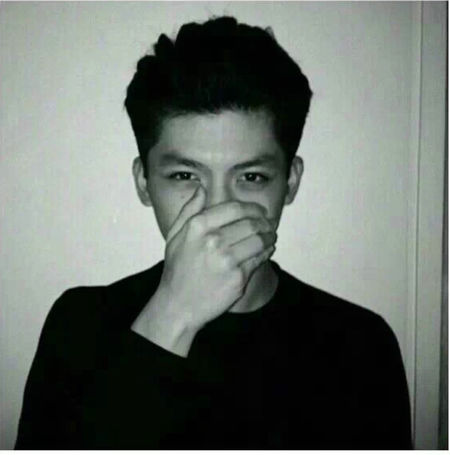face: (148, 117, 285, 278)
